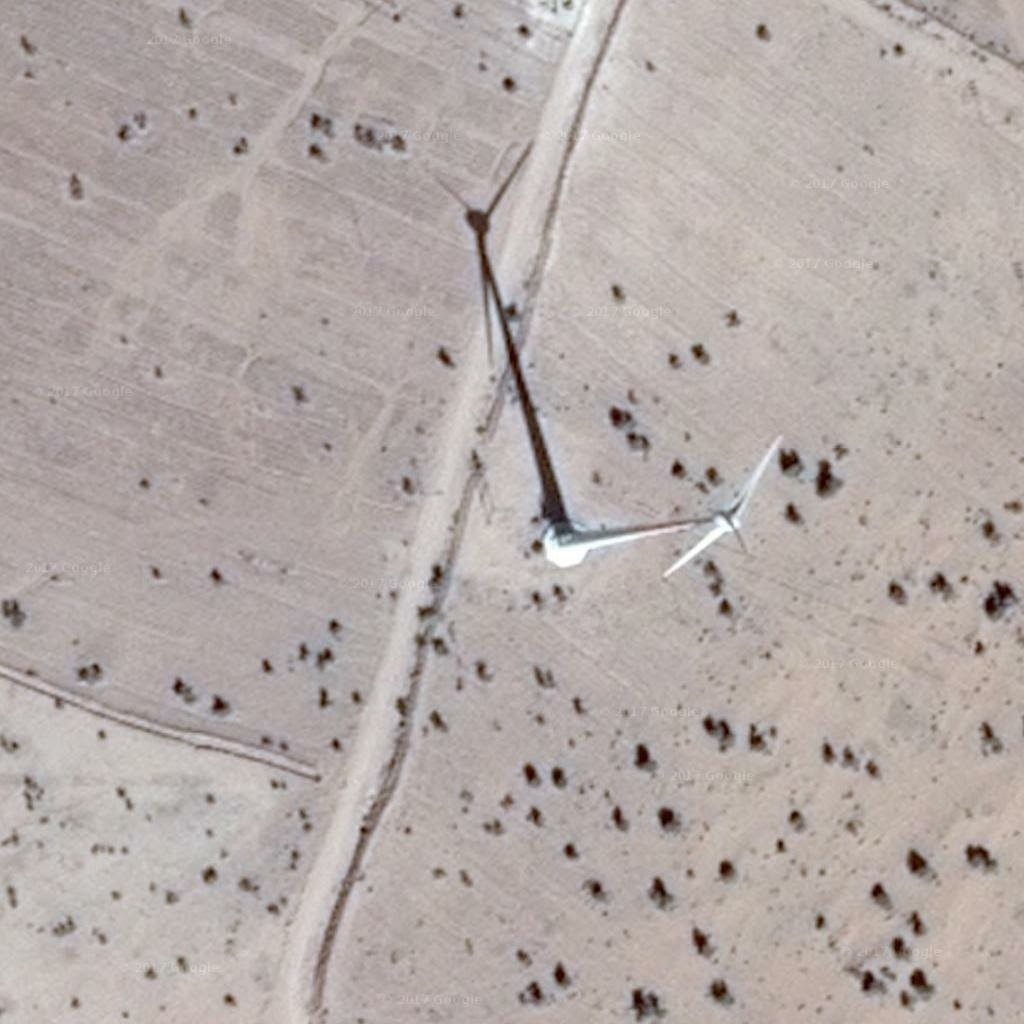Windmill: (431, 142, 579, 536)
